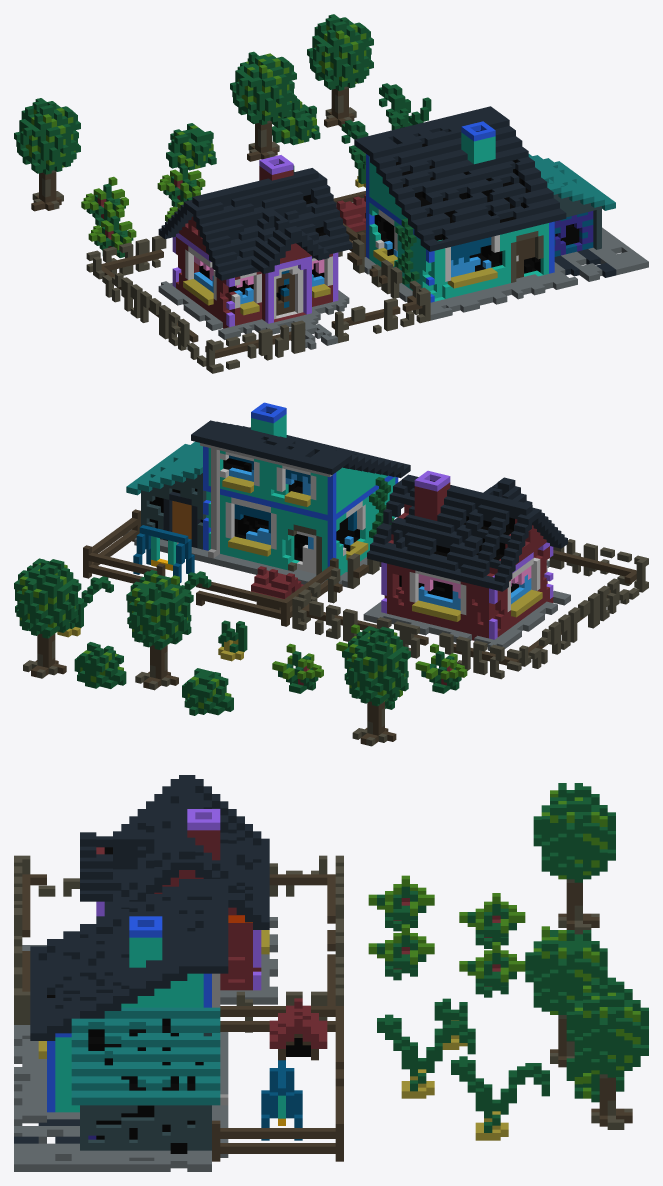
The model's file is building_small_3_damaged.obj.
The picture shows the model from 3 angles, top to bottom: view 1: azimuth 30°, elevation 25°; view 2: azimuth 150°, elevation 25°; view 3: azimuth 270°, elevation 25°; orthographic projection. The views are drawn at different scales.
Size of the model in its own units: 8 by 2.3 by 7.7.
1 material, 1 textured.
